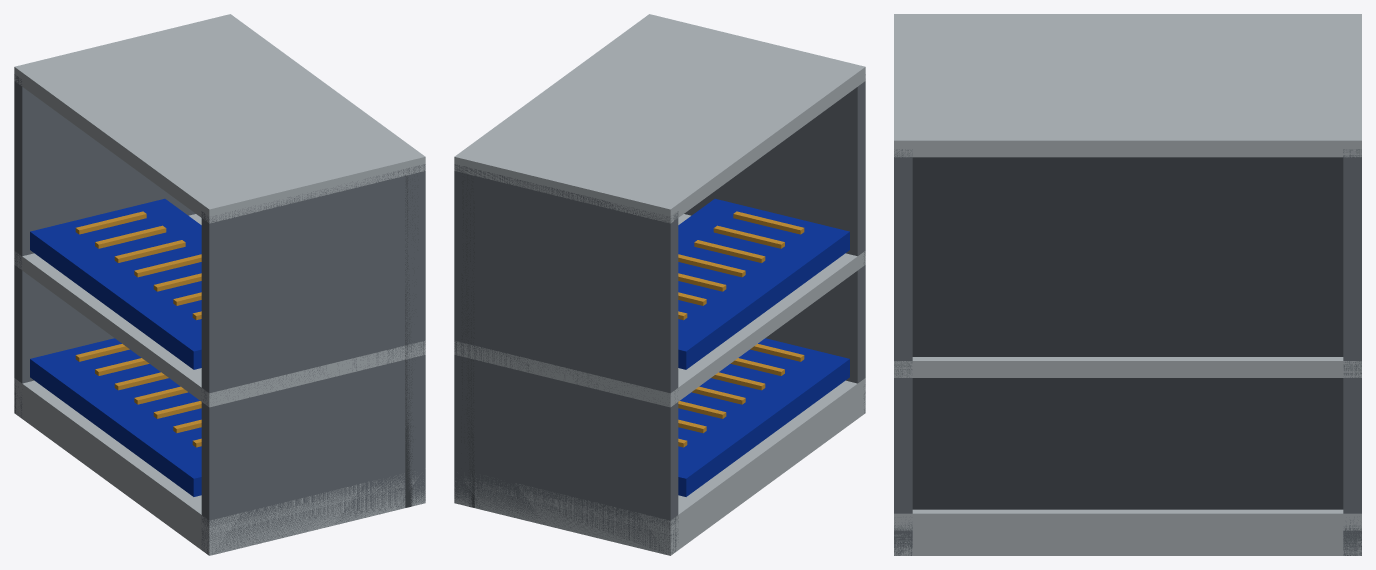
The model's file is L131_LAN_USB32_45.fbx.
3 renders of one model, left to right at view 1: azimuth 30°, elevation 25°; view 2: azimuth 150°, elevation 25°; view 3: azimuth 270°, elevation 25°, orthographic. The views are drawn at different scales.
Visible parts, largest first — view 1: LAN_USB32_45_Steel, LAN_USB32_45_Silver, LAN_USB32_45_Blue, LAN_USB32_45_Gold, LAN_USB32_45_Gray; view 2: LAN_USB32_45_Steel, LAN_USB32_45_Silver, LAN_USB32_45_Blue, LAN_USB32_45_Gold; view 3: LAN_USB32_45_Gray, LAN_USB32_45_Silver, LAN_USB32_45_Steel.
Part boxes in pixels (x1,y1,x2,y2): LAN_USB32_45_Steel: (14, 74, 425, 554); LAN_USB32_45_Silver: (14, 14, 425, 555); LAN_USB32_45_Blue: (30, 198, 201, 496); LAN_USB32_45_Gold: (75, 211, 201, 447); LAN_USB32_45_Gray: (405, 170, 418, 507); LAN_USB32_45_Steel: (454, 74, 865, 555); LAN_USB32_45_Silver: (454, 14, 865, 555); LAN_USB32_45_Blue: (678, 198, 849, 496); LAN_USB32_45_Gold: (678, 211, 804, 447); LAN_USB32_45_Gray: (912, 157, 1343, 509); LAN_USB32_45_Silver: (894, 14, 1361, 555); LAN_USB32_45_Steel: (894, 149, 1361, 555).
Bounding box in the file's own units: 1.6 × 2.45 × 2.5.
